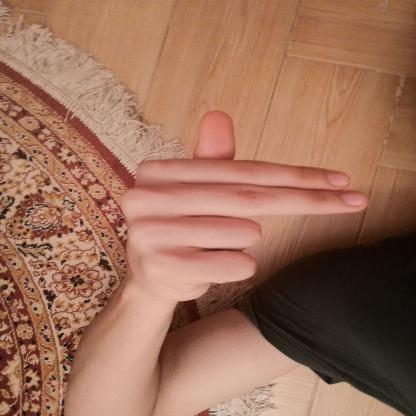GHAYN: (104, 98, 388, 316)
